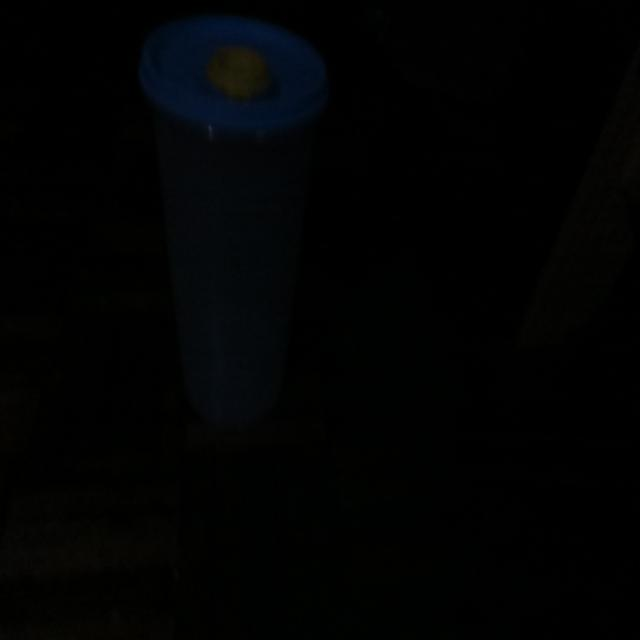Bottle: (141, 22, 335, 422)
